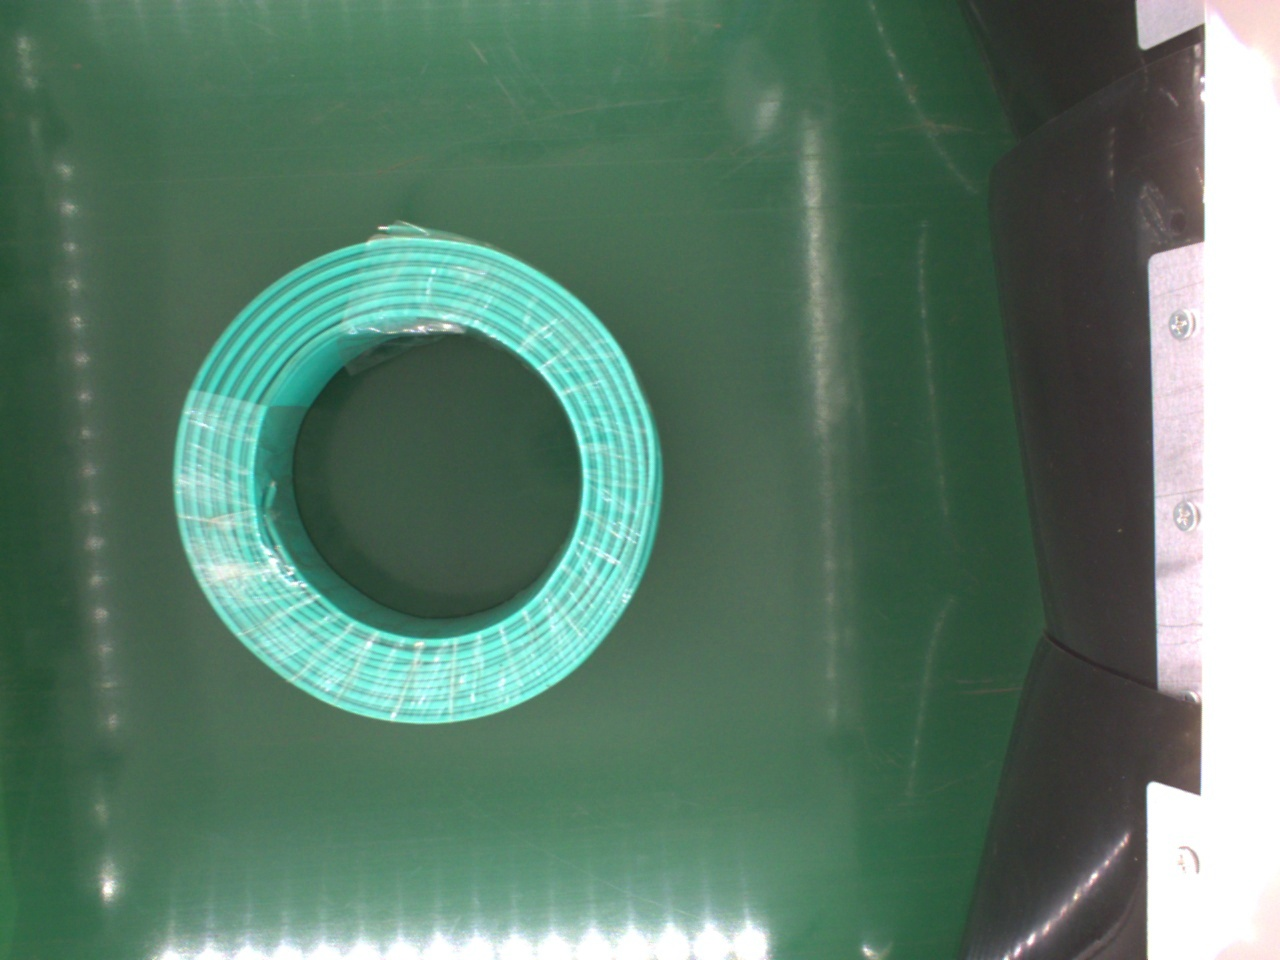green: (171, 233, 662, 726)
